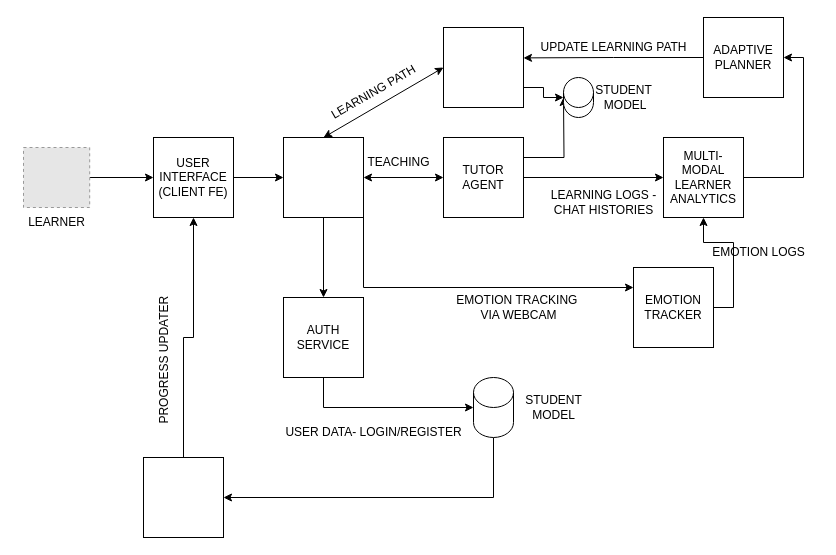
The diagram is 836 pixels wide and 555 high, and some of its shapes have lost their labels. Grey dashed boxes stand in for pictures. The shapes that lost their labels are listed below. From the top down, each one's centre as x and y in pixels, then its label:
point (483, 67): DOMAIN SERVICE
point (323, 177): API GATEWAY
point (183, 497): DASHBOARD SERVICE
